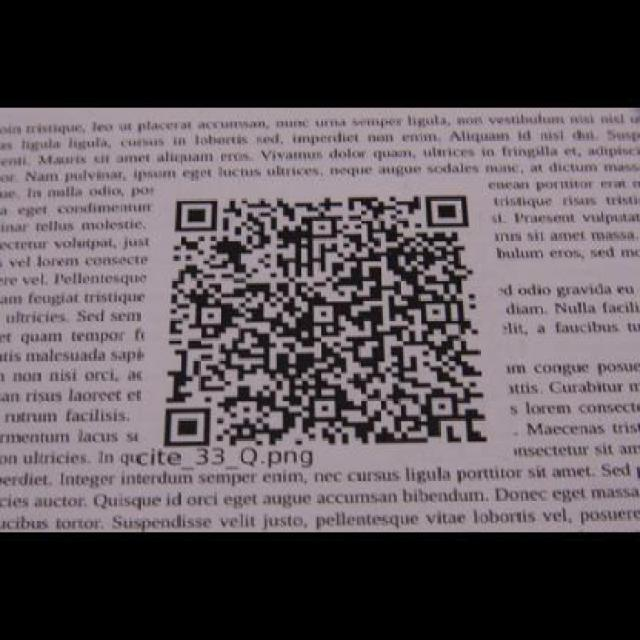QRCode: (157, 190, 499, 447)
